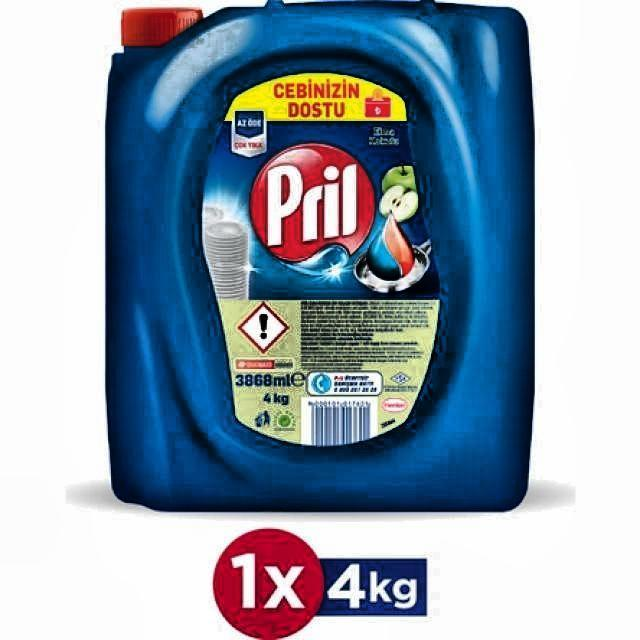plastic: (105, 0, 537, 516)
